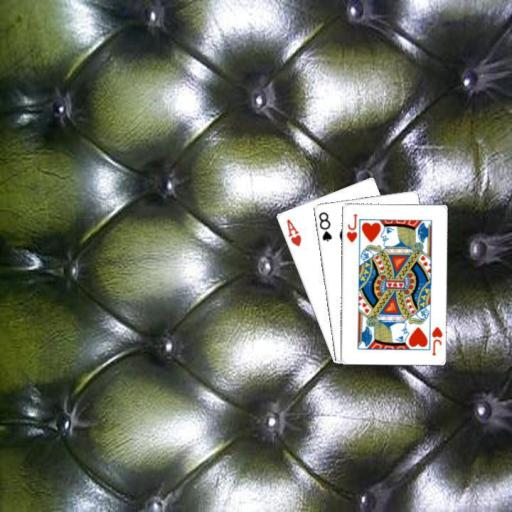8S: (316, 209, 333, 244)
AH: (283, 216, 302, 248)
JH: (343, 210, 358, 244), (429, 324, 444, 356)
